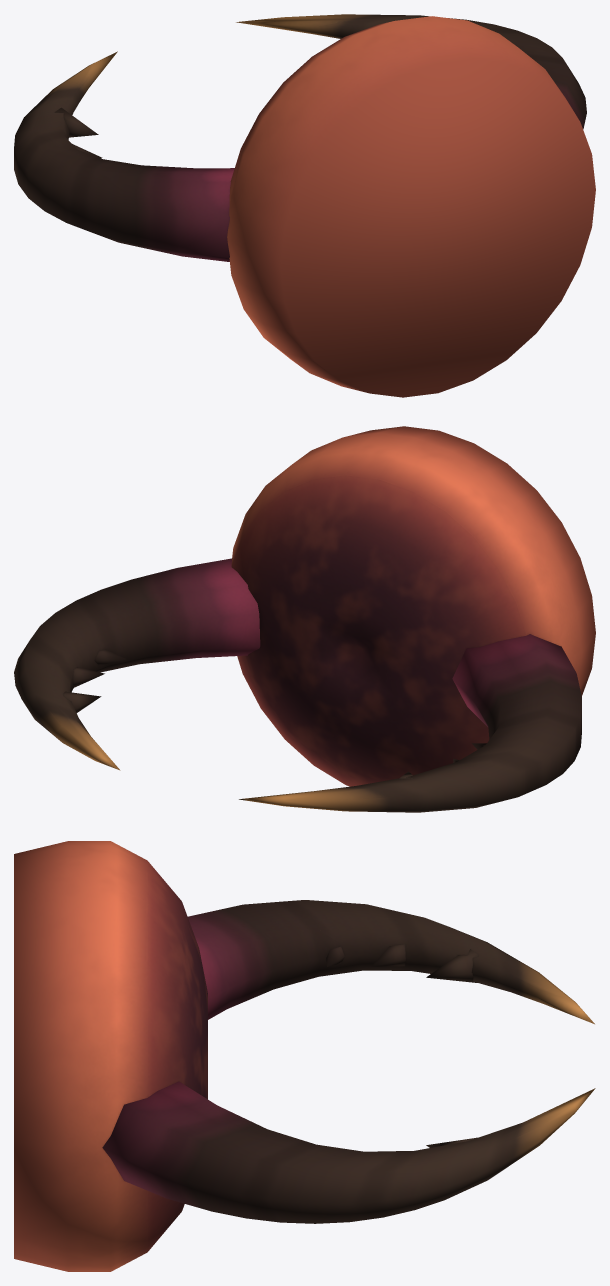
Rendered from part_mouth_jaw.glb.
3 renders of one model, top to bottom at view 1: azimuth 30°, elevation 25°; view 2: azimuth 150°, elevation 25°; view 3: azimuth 270°, elevation 25°, orthographic. The views are drawn at different scales.
Visible parts, largest first — view 1: JawBase, Mandible_L, Mandible_R; view 2: JawBase, Mandible_R, Mandible_L; view 3: JawBase, Mandible_R, Mandible_L.
Boxes of the visible parts, bbox=[...] form: JawBase: bbox=[227, 16, 595, 397]; Mandible_L: bbox=[14, 51, 234, 261]; Mandible_R: bbox=[236, 14, 586, 129]; JawBase: bbox=[231, 426, 595, 786]; Mandible_R: bbox=[14, 558, 260, 770]; Mandible_L: bbox=[239, 634, 581, 812]; JawBase: bbox=[14, 841, 207, 1271]; Mandible_R: bbox=[102, 1081, 595, 1223]; Mandible_L: bbox=[188, 900, 594, 1024].
Size of the model in its own units: 0.3112 by 0.2 by 0.2702.
Materials: 1 (1 with a texture image).
